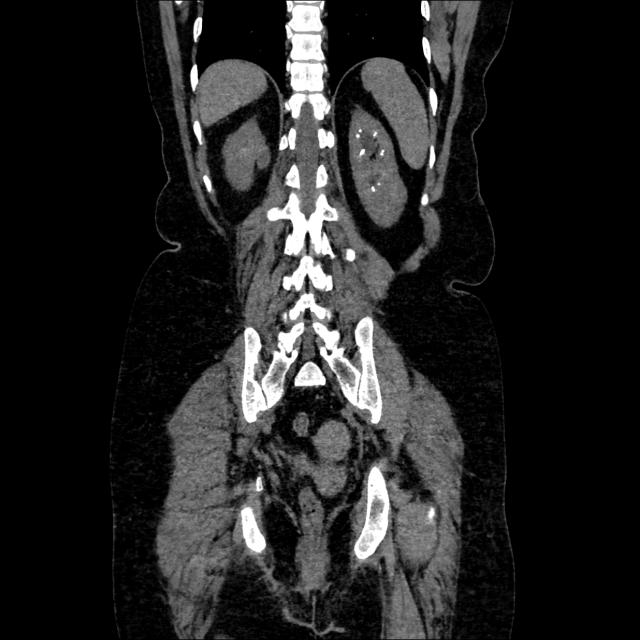kidney: (346, 101, 411, 231), (222, 110, 274, 194)
stone: (369, 184, 378, 194), (358, 147, 366, 157), (356, 126, 364, 134), (354, 132, 362, 140), (372, 129, 378, 138), (380, 147, 385, 157)
